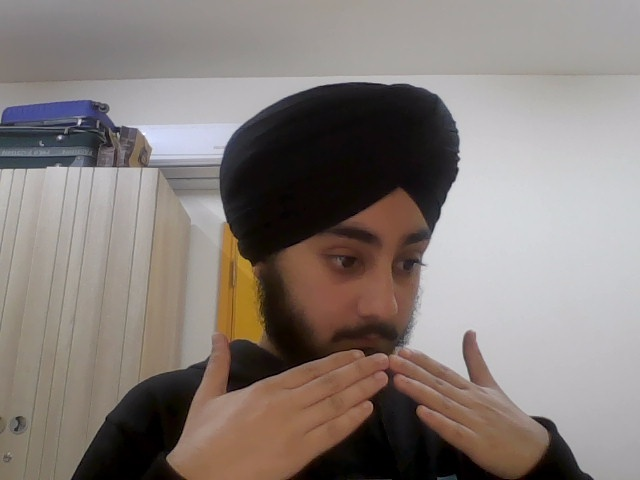Thanks: (168, 327, 553, 480)
